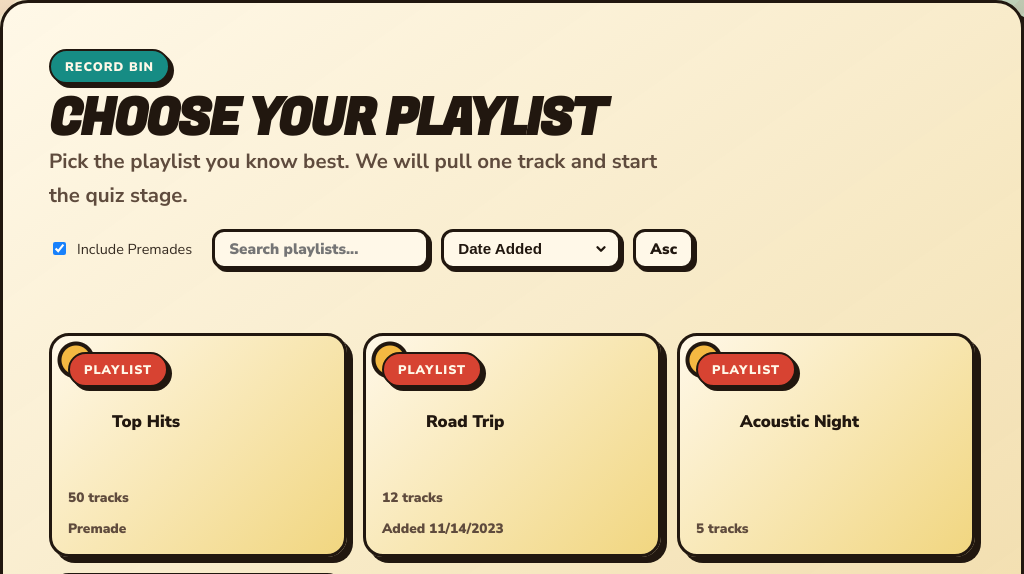
Test: PlaylistMenu › searches playlists and shows the no-results state
The image size is (1024, 574).
In the field with placeholder "Search playlists...": (321, 249) x1=212 y1=229 x2=429 y2=269, type "acoustic"
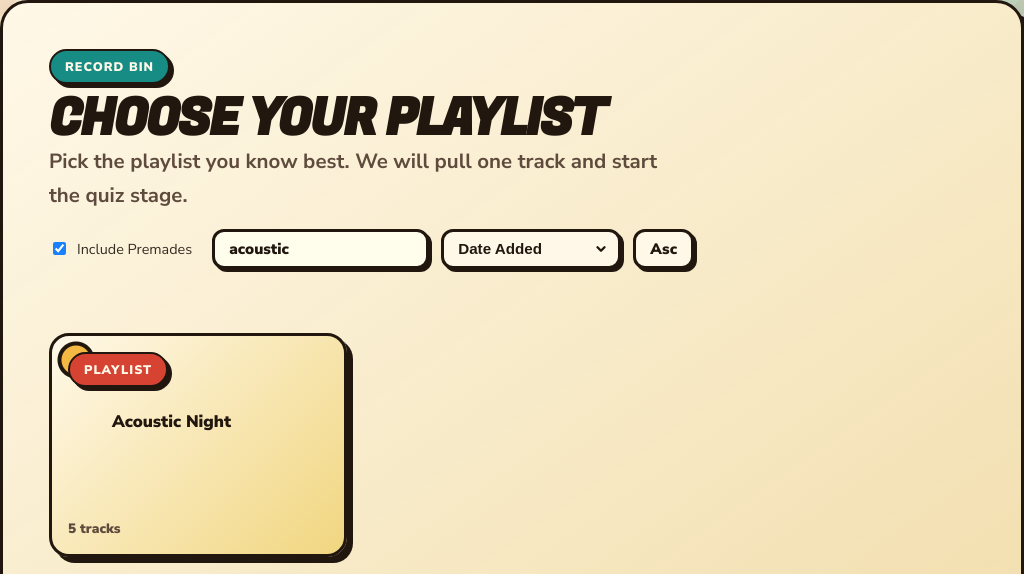
Expected: the button "Playlist Acoustic Night 5 tracks" is shown, x1=49 y1=333 x2=347 y2=557
Expected: the button "Road Trip" is gone
Replace the text in the field with placeholder "Search playlists..." with "missing": (321, 249) x1=212 y1=229 x2=429 y2=269
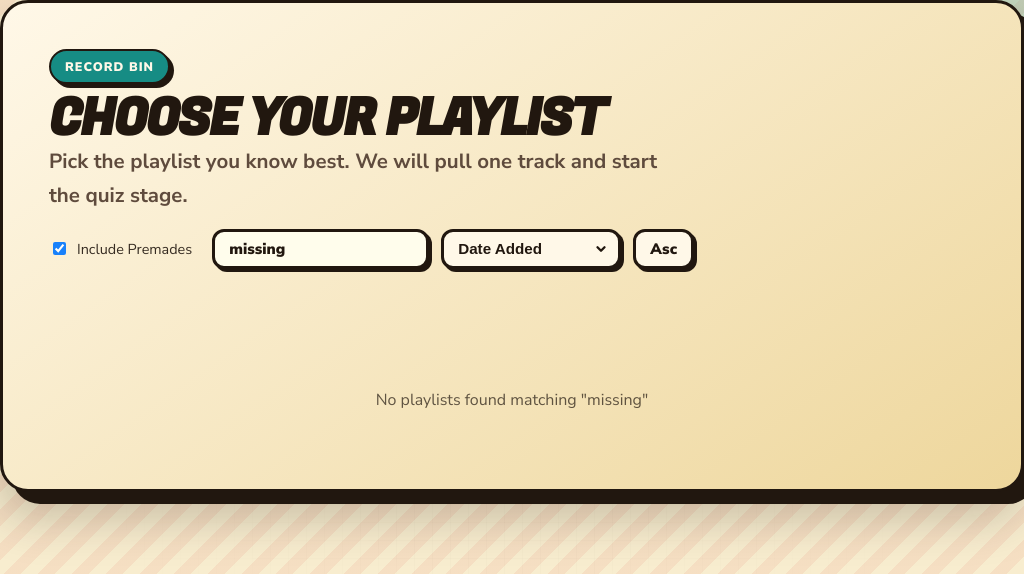
Expected: the text "No playlists found matching \"missing\"" is shown, x1=376 y1=389 x2=648 y2=411
